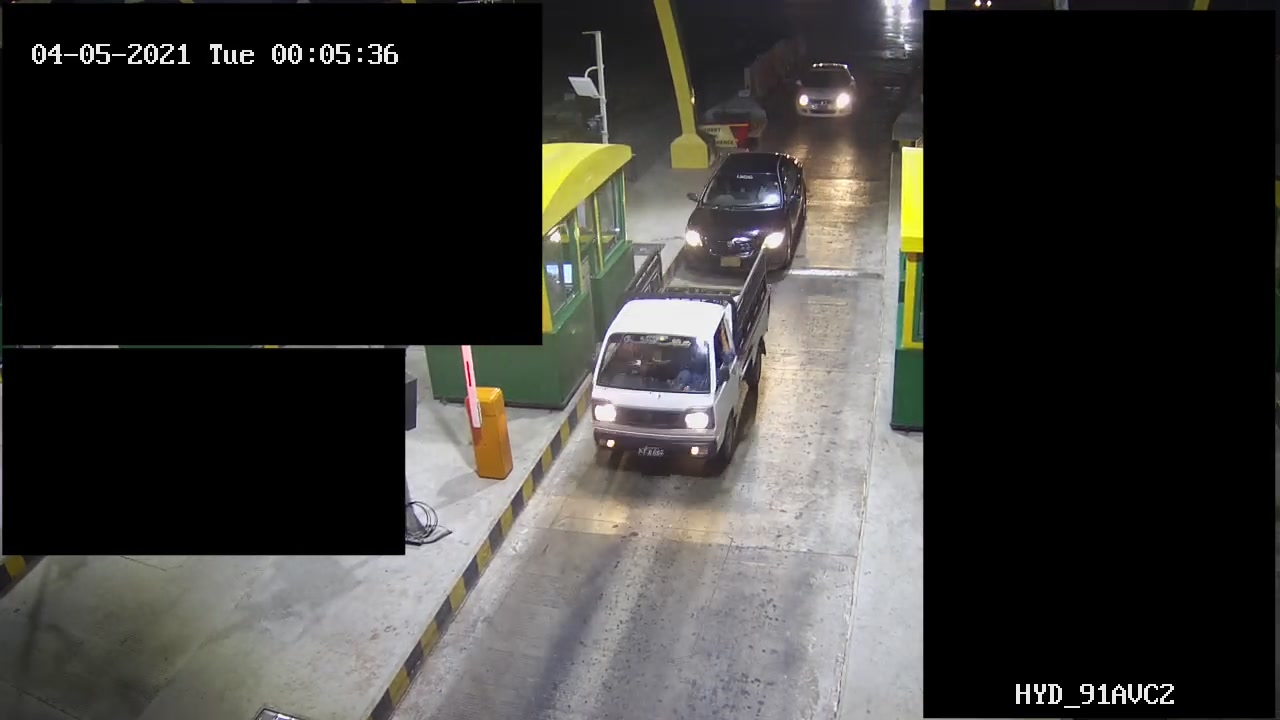F1: (584, 242, 783, 487), (682, 150, 808, 283)
